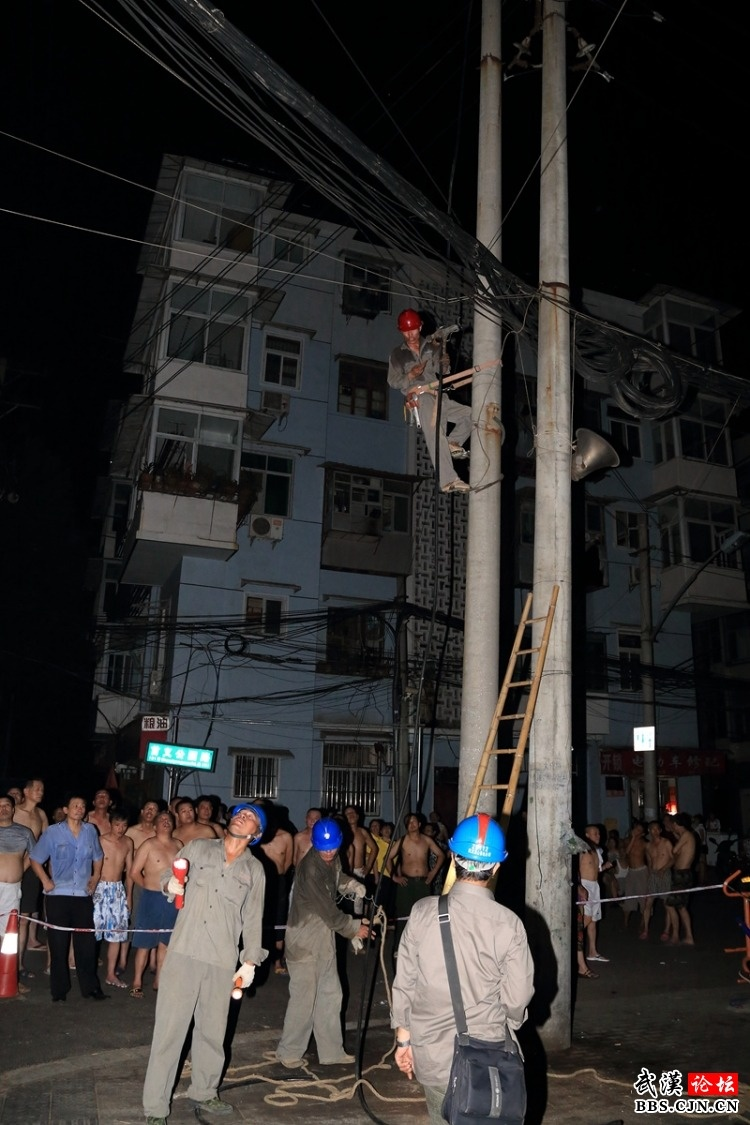blue: (445, 815, 506, 882), (227, 802, 266, 849), (310, 815, 341, 863)
none: (105, 805, 131, 837), (172, 795, 197, 826), (61, 792, 87, 821), (21, 775, 46, 805), (151, 810, 174, 836), (91, 786, 113, 813), (193, 794, 214, 822), (399, 810, 422, 835), (139, 796, 159, 824), (341, 803, 362, 827), (582, 821, 602, 844), (304, 805, 323, 829), (669, 812, 689, 834), (1, 792, 15, 822), (629, 819, 647, 840), (646, 819, 663, 839), (378, 819, 393, 839), (367, 817, 381, 835), (424, 820, 438, 838)
red: (395, 307, 422, 346)
